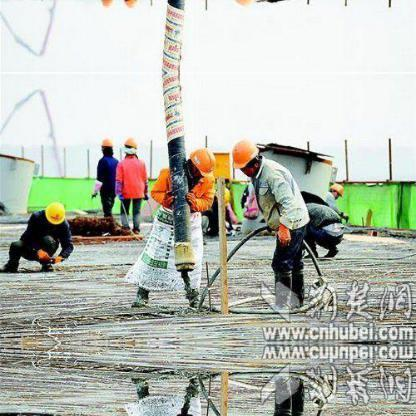helmet: (186, 144, 217, 180), (231, 135, 259, 170), (44, 199, 65, 225), (121, 136, 139, 151), (100, 138, 118, 151), (331, 181, 344, 197)
